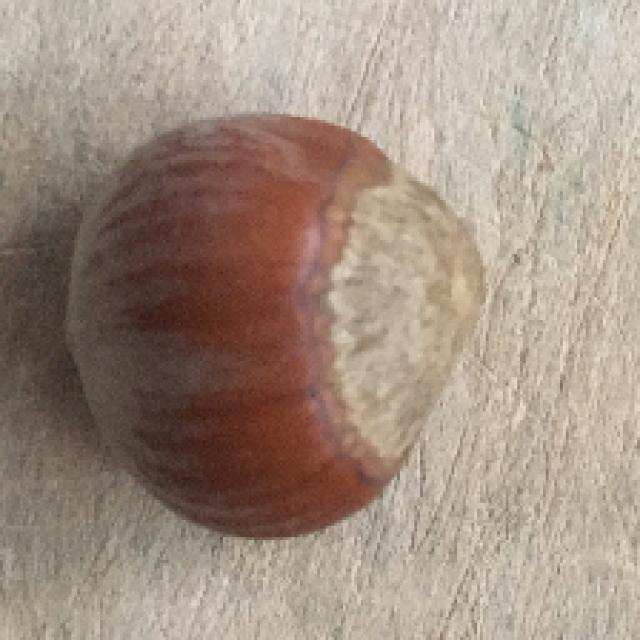qualityHazelnut: (65, 113, 491, 543)
